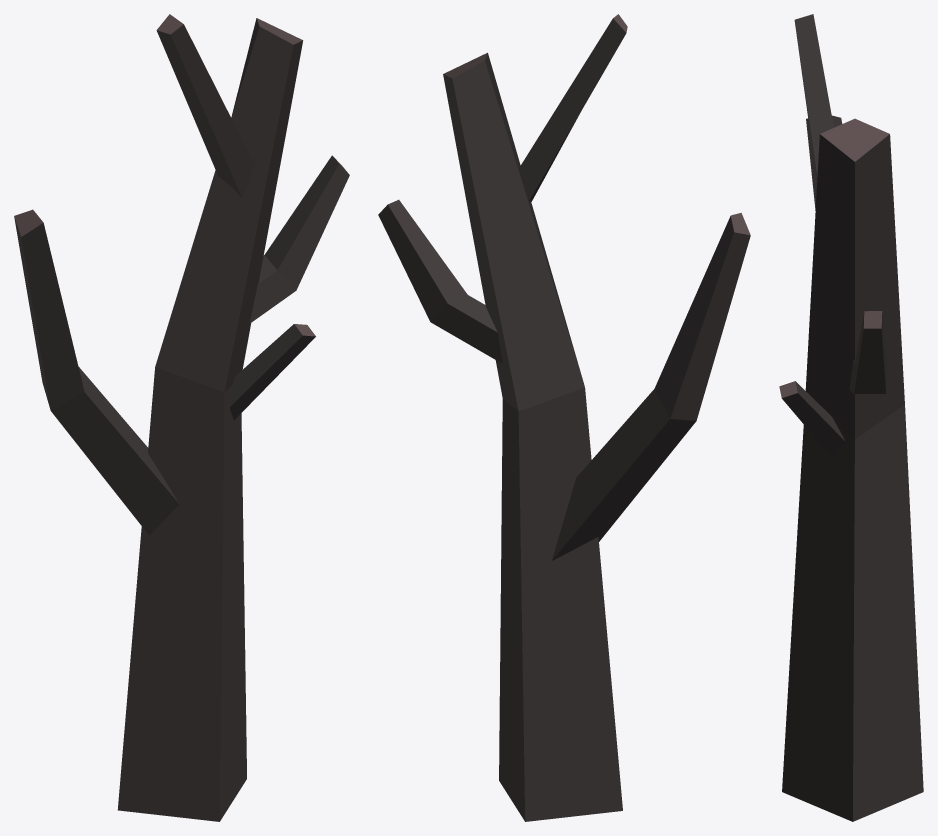
File: TB_D_Env_DeadTreeB_C.FBX
3 views of the same model, side by side, from view 1: azimuth 30°, elevation 25°; view 2: azimuth 150°, elevation 25°; view 3: azimuth 270°, elevation 25° (orthographic). The views are drawn at different scales.
Parts seen in each view (by area): view 1: TB_D_Env_DeadTreeB_C; view 2: TB_D_Env_DeadTreeB_C; view 3: TB_D_Env_DeadTreeB_C.
Part boxes in pixels (bbox=[...]): TB_D_Env_DeadTreeB_C: bbox=[14, 14, 349, 821]; TB_D_Env_DeadTreeB_C: bbox=[378, 14, 750, 821]; TB_D_Env_DeadTreeB_C: bbox=[779, 14, 923, 821].
Bounding box in the file's own units: 2.93 × 6.34 × 1.09.
